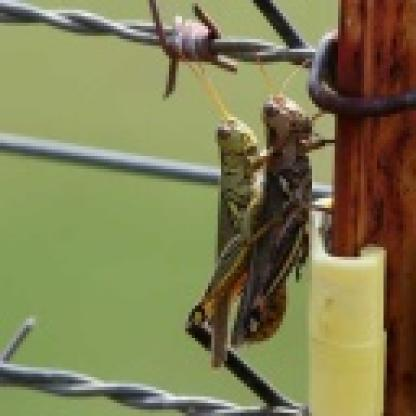grasshopper: (251, 80, 319, 338), (198, 111, 272, 333)
